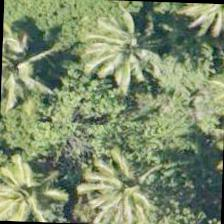Kelapa_Sawit: (68, 12, 160, 105), (95, 153, 189, 223), (0, 153, 66, 222), (1, 14, 50, 106)
